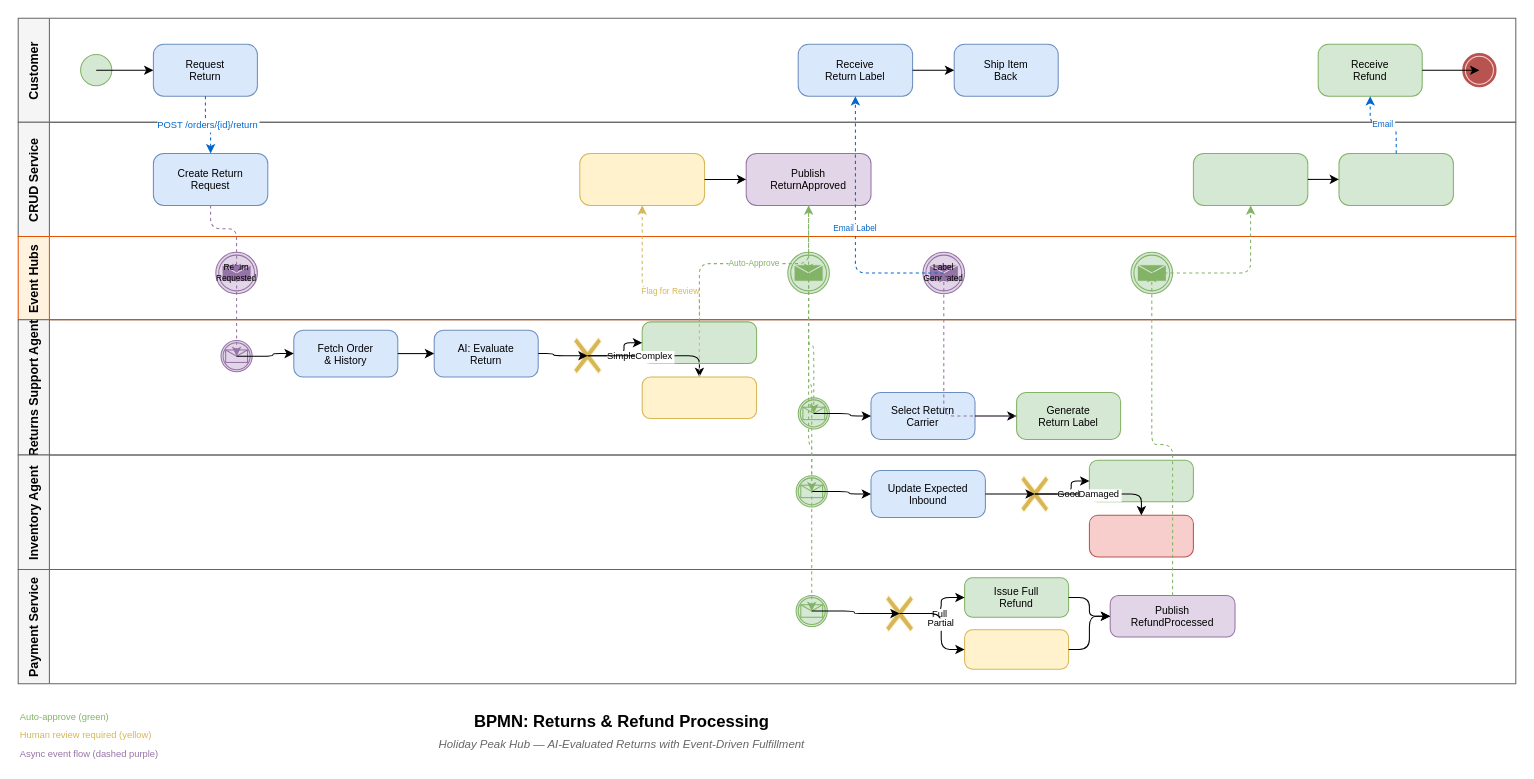
Image size: 1534x779. Some labels were removed from this diagram. The shapes that lost their labels are listed below. From the top down, each one's centre as x and y in pixels, then its label:
[642,178]: Staff Reviews Flagged Cases
[1250,178]: Update Status: Refunded
[1395,178]: Send Refund Confirmation
[808,272]: Return Approved
[1151,272]: Refund Processed
[699,342]: Auto-Approve (Simple Case)
[699,397]: Flag for Human Review
[1140,480]: Restock Inventory
[1140,535]: Write-off (Damaged)
[1016,649]: Issue Partial Refund
